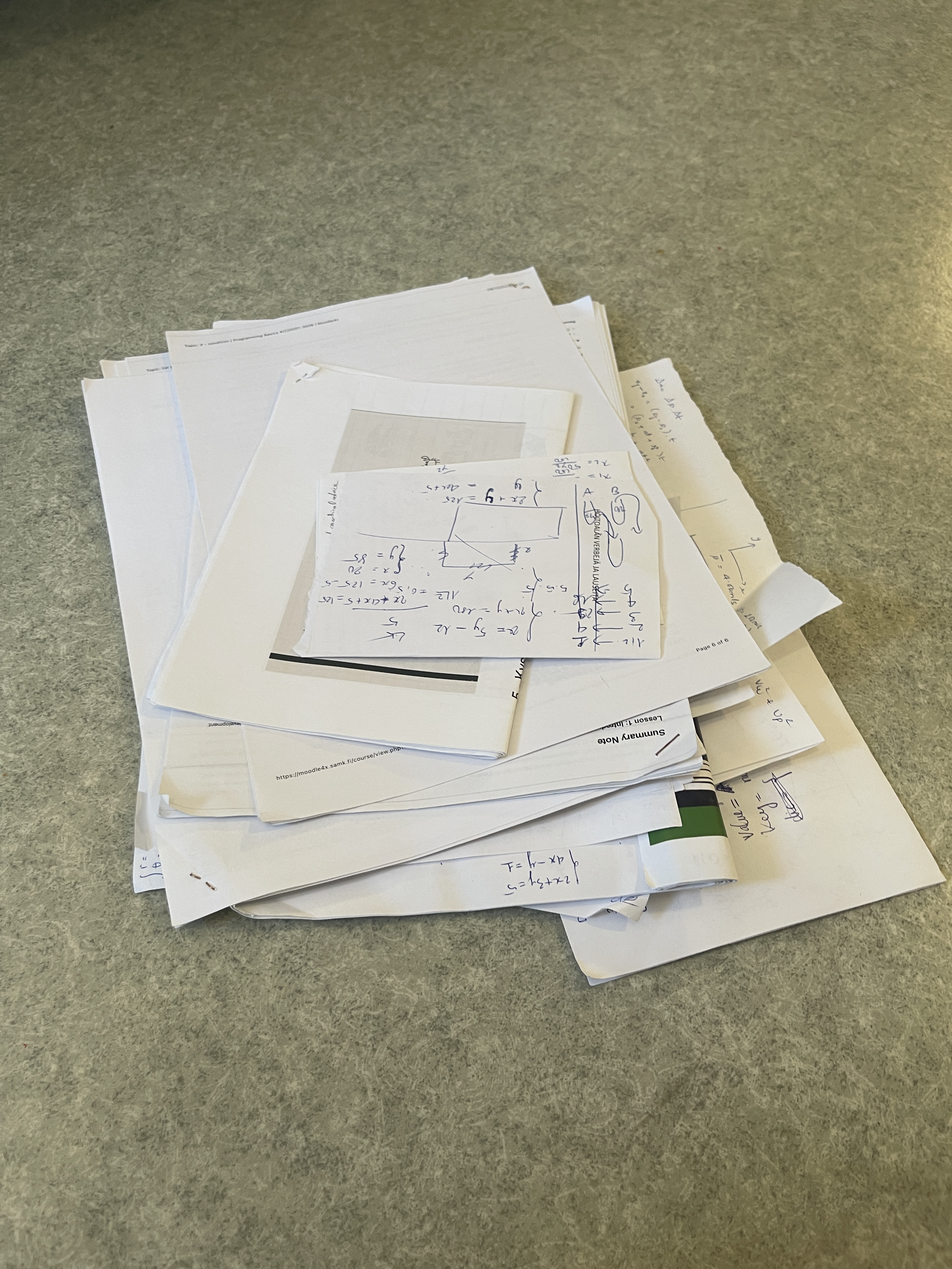paper: (78, 260, 950, 983)
